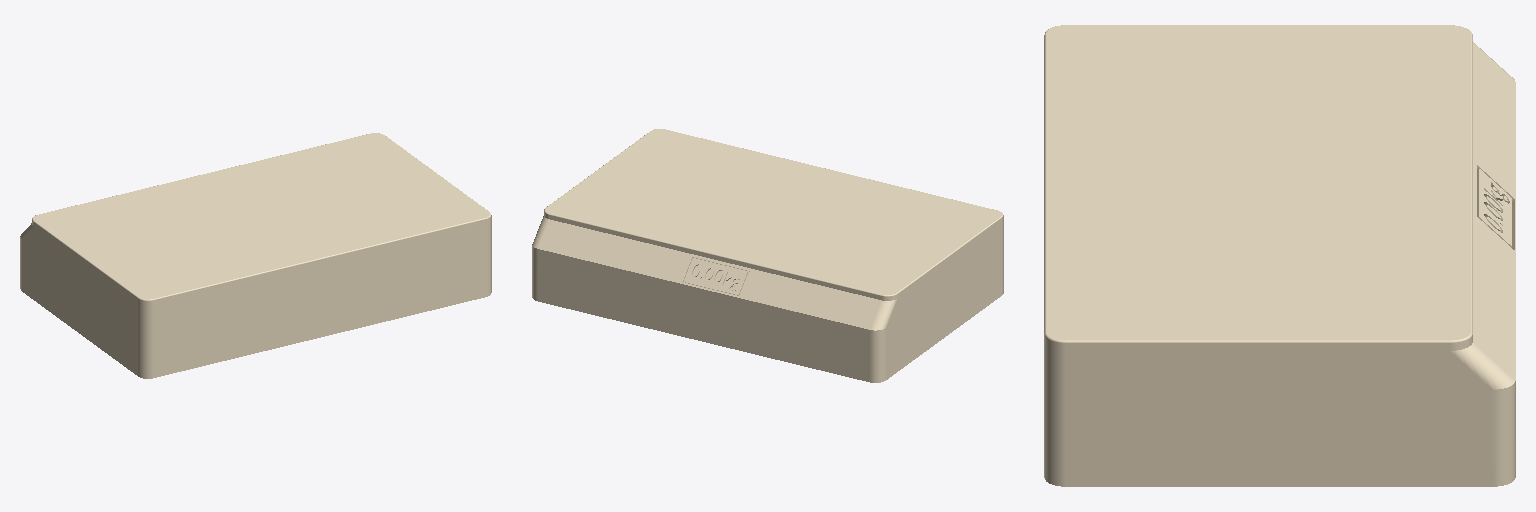
The robot description file, URDF, robot "bounds":
<?xml version="1.0"?>
<robot name="bounds">
	<link concave="yes" name="baseLink">
		<contact>
			<lateral_friction value="1"/>
		</contact>
		<visual>
			<geometry>
        		<mesh filename="scale.obj"/>
			</geometry>
			<material name="tan">
				<color rgba="0.95 0.9 0.8 1"/>
			</material>
		</visual>
		<collision concave="yes">
			<geometry>
        		<mesh filename="scale-collision.obj"/>
      		</geometry>
		</collision>
	</link>
</robot>

--- What the picture shows (computed from the rendered views, not written in the file) ---
3 views of the same robot in one strip: view 1: azimuth 30°, elevation 25°; view 2: azimuth 150°, elevation 25°; view 3: azimuth 270°, elevation 25° (orthographic).
Robot: bounds — 1 links, 0 joints (none); root link baseLink; default pose: all joints at 0.
Visible links, largest first — view 1: baseLink; view 2: baseLink; view 3: baseLink.
Boxes of the visible links, x1=… form: baseLink: x1=20, y1=133, x2=491, y2=378; baseLink: x1=532, y1=129, x2=1003, y2=382; baseLink: x1=1044, y1=25, x2=1515, y2=486.
Size in the robot's own frame: 0.7 by 0.44 by 0.15 metres.
Meshes: 1 distinct files referenced, 1 mesh visuals loaded (1 OBJ).